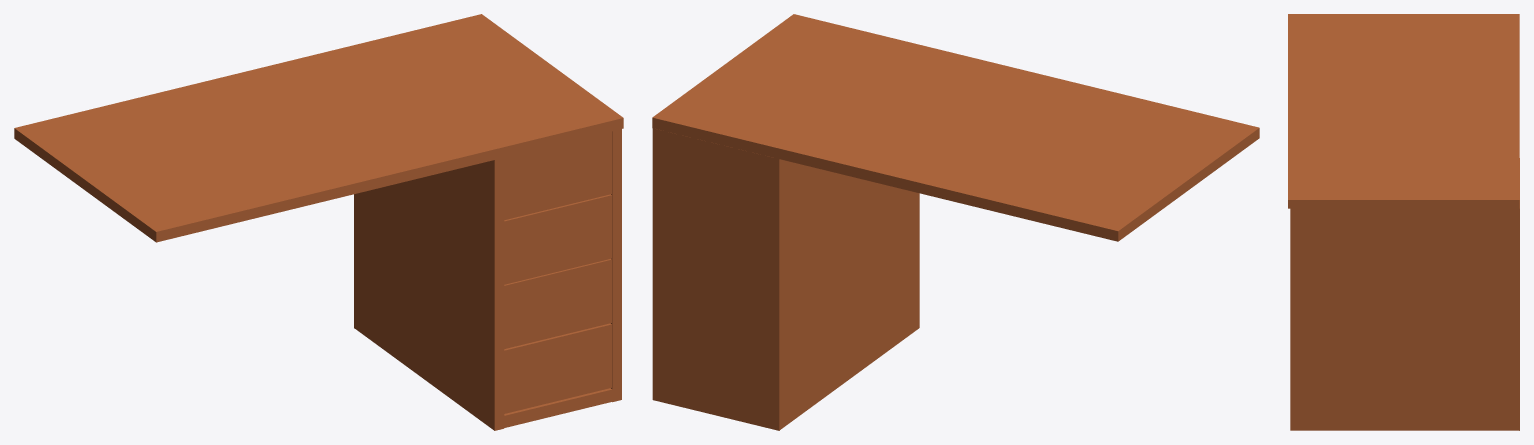
Rendered from escritorio de charlie.fbx.
3 renders of one model, left to right at view 1: azimuth 30°, elevation 25°; view 2: azimuth 150°, elevation 25°; view 3: azimuth 270°, elevation 25°, orthographic. The views are drawn at different scales.
Visible parts, largest first — view 1: Desk; view 2: Desk; view 3: Desk.
Part boxes in pixels (x1,y1,x2,y2): Desk: (14, 14, 623, 430); Desk: (652, 14, 1259, 430); Desk: (1288, 14, 1519, 430).
Size of the model in its own units: 190 by 110 by 100.
